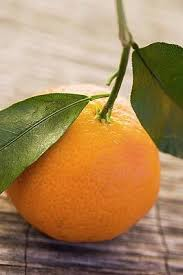orange: (10, 79, 170, 246)
